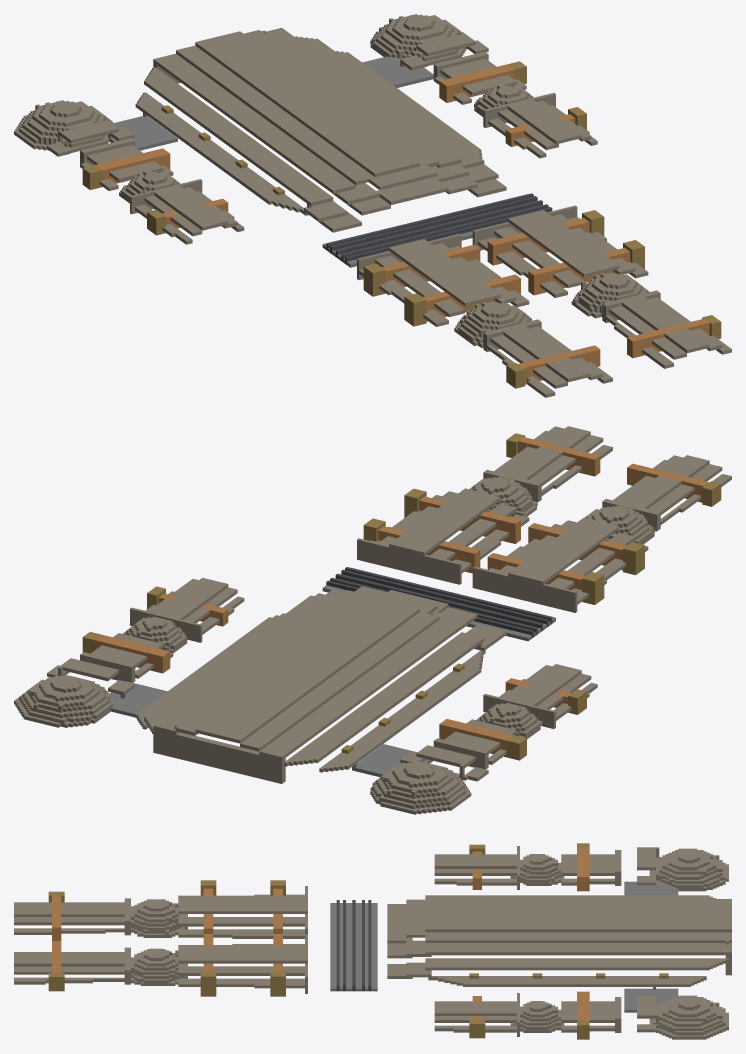
Rendered from armor_qt_lightplate.glb.
The picture shows the model from 3 angles, top to bottom: view 1: azimuth 30°, elevation 25°; view 2: azimuth 150°, elevation 25°; view 3: azimuth 270°, elevation 25°; orthographic projection. The views are drawn at different scales.
Visible parts, largest first — view 1: armor_qt_lightplate:compound; view 2: armor_qt_lightplate:compound; view 3: armor_qt_lightplate:compound.
Part boxes in pixels (x1=…): armor_qt_lightplate:compound: x1=14, y1=14, x2=731, y2=397; armor_qt_lightplate:compound: x1=14, y1=426, x2=731, y2=814; armor_qt_lightplate:compound: x1=14, y1=843, x2=731, y2=1039.
Size of the model in its own units: 0.816 by 0.06 by 1.36.
